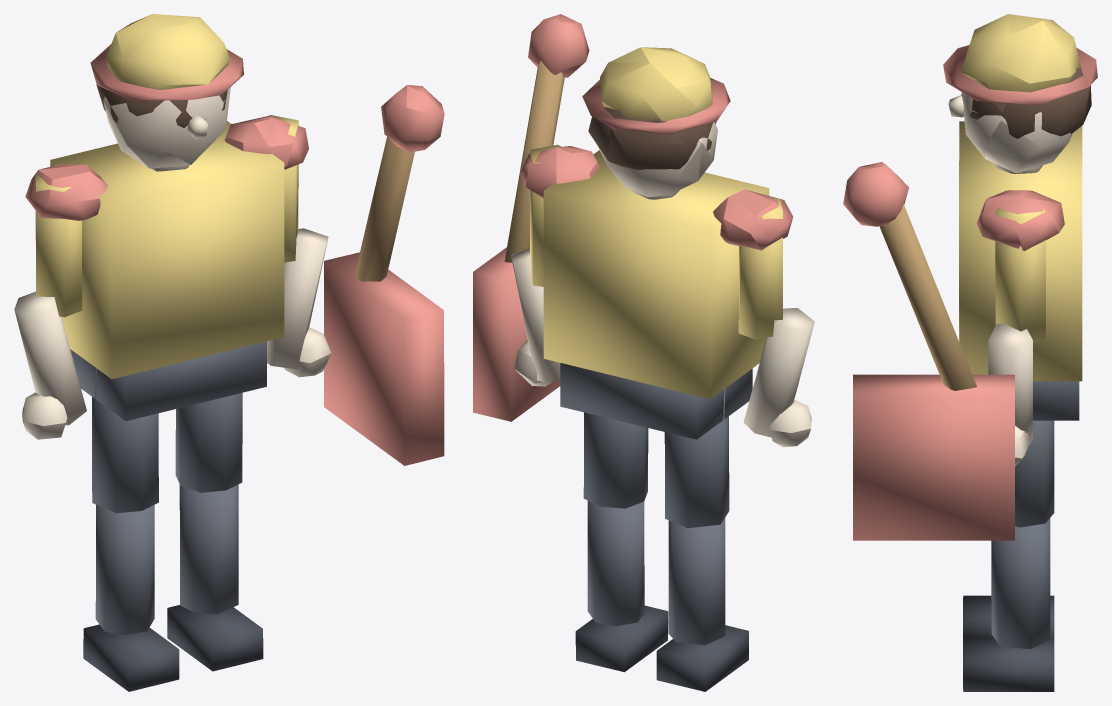
File: SM_Leonidas_LOD3.fbx
3 views of the same model, side by side, from view 1: azimuth 30°, elevation 25°; view 2: azimuth 150°, elevation 25°; view 3: azimuth 270°, elevation 25° (orthographic). The views are drawn at different scales.
Visible parts, largest first — view 1: SM_Leonidas_LOD3; view 2: SM_Leonidas_LOD3; view 3: SM_Leonidas_LOD3.
Part boxes in pixels (x1,y1,x2,y2): SM_Leonidas_LOD3: [14, 14, 444, 691]; SM_Leonidas_LOD3: [473, 14, 814, 691]; SM_Leonidas_LOD3: [843, 14, 1097, 691].
Bounding box in the file's own units: 0.8572 × 1.46 × 0.5281.
